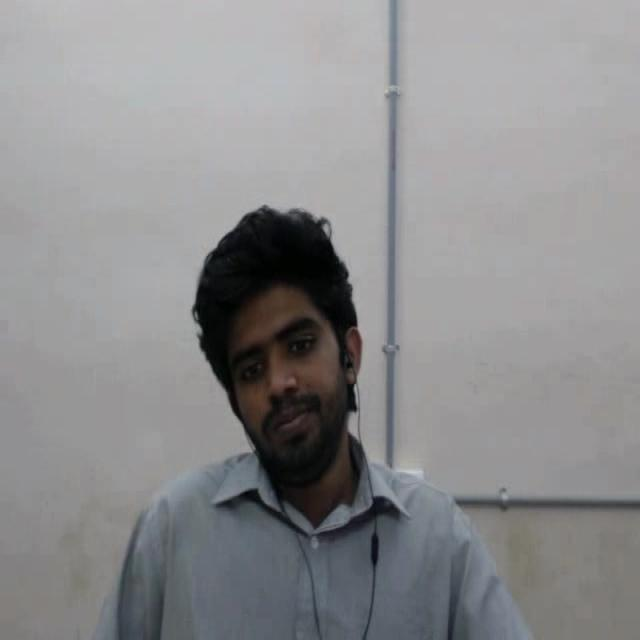Engaged: (156, 181, 399, 532)
